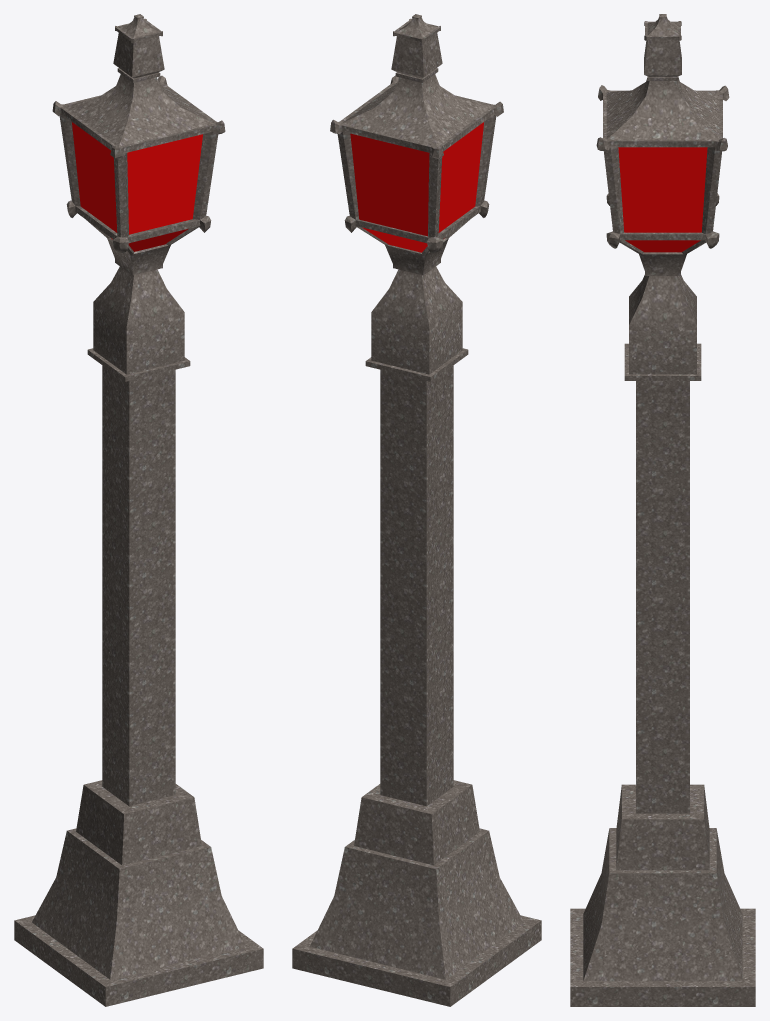
The model's file is lamp_post.fbx.
The picture shows the model from 3 angles, left to right: view 1: azimuth 30°, elevation 25°; view 2: azimuth 150°, elevation 25°; view 3: azimuth 270°, elevation 25°; orthographic projection.
Parts seen in each view (by area): view 1: Post, Post.001; view 2: Post, Post.001; view 3: Post, Post.001.
Part boxes in pixels (x1,y1,x2,y2): Post: (14, 14, 263, 1006); Post.001: (72, 122, 202, 251); Post: (292, 14, 541, 1006); Post.001: (350, 122, 483, 252); Post: (570, 14, 755, 1006); Post.001: (618, 147, 707, 252).
Size of the model in its own units: 1.01 by 5.72 by 1.01.
